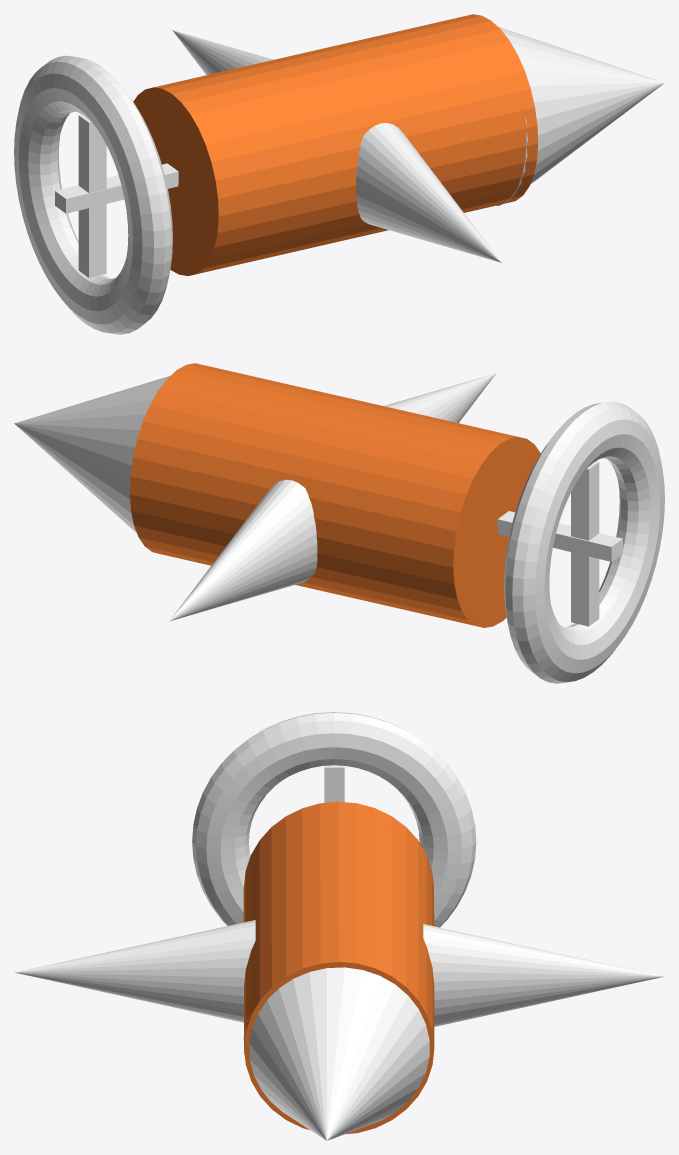
The model's file is player.gltf.
The picture shows the model from 3 angles, top to bottom: view 1: azimuth 30°, elevation 25°; view 2: azimuth 150°, elevation 25°; view 3: azimuth 270°, elevation 25°; orthographic projection.
Visible parts, largest first — view 1: Cylinder, Torus_001, Cone, Cone_001, Cube_001, Cone_002, Cube.001; view 2: Cylinder, Torus_001, Cone_002, Cone, Cube_001, Cone_001, Cube.001; view 3: Cylinder, Torus_001, Cone, Cone_001, Cone_002, Cube_001.
Part boxes in pixels (x1=…): Cylinder: x1=133, y1=14, x2=538, y2=275; Torus_001: x1=14, y1=55, x2=172, y2=334; Cone: x1=496, y1=26, x2=664, y2=205; Cone_001: x1=356, y1=123, x2=501, y2=262; Cube_001: x1=78, y1=114, x2=106, y2=277; Cone_002: x1=172, y1=30, x2=273, y2=75; Cube.001: x1=55, y1=163, x2=178, y2=213; Cylinder: x1=130, y1=363, x2=540, y2=627; Torus_001: x1=504, y1=401, x2=664, y2=683; Cone_002: x1=169, y1=479, x2=317, y2=621; Cone: x1=14, y1=376, x2=169, y2=532; Cube_001: x1=571, y1=461, x2=599, y2=626; Cone_001: x1=384, y1=373, x2=496, y2=422; Cube.001: x1=497, y1=511, x2=622, y2=561; Cylinder: x1=243, y1=801, x2=434, y2=1134; Torus_001: x1=192, y1=712, x2=476, y2=927; Cone: x1=243, y1=967, x2=429, y2=1140; Cone_001: x1=14, y1=920, x2=255, y2=1022; Cone_002: x1=423, y1=924, x2=664, y2=1026; Cube_001: x1=324, y1=765, x2=344, y2=802.
Size of the model in its own units: 6.8 by 2.8 by 6.41.
